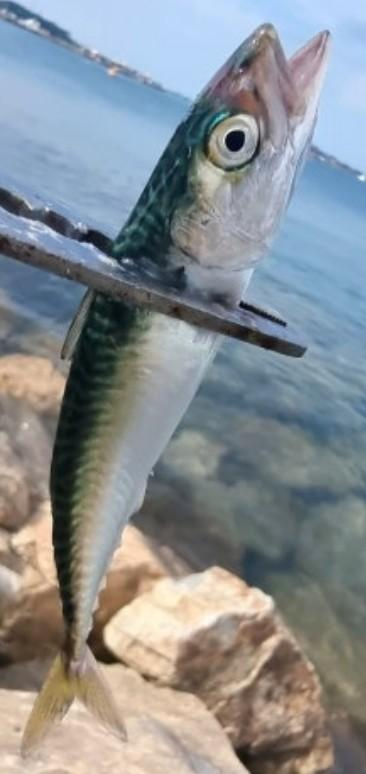fish: (23, 23, 328, 748)
